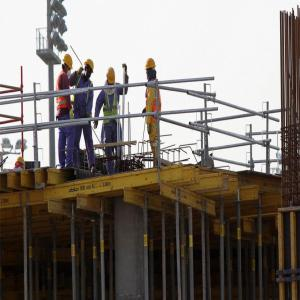yellow: (62, 55, 73, 78), (146, 58, 157, 81), (84, 58, 95, 80), (107, 67, 117, 89)
